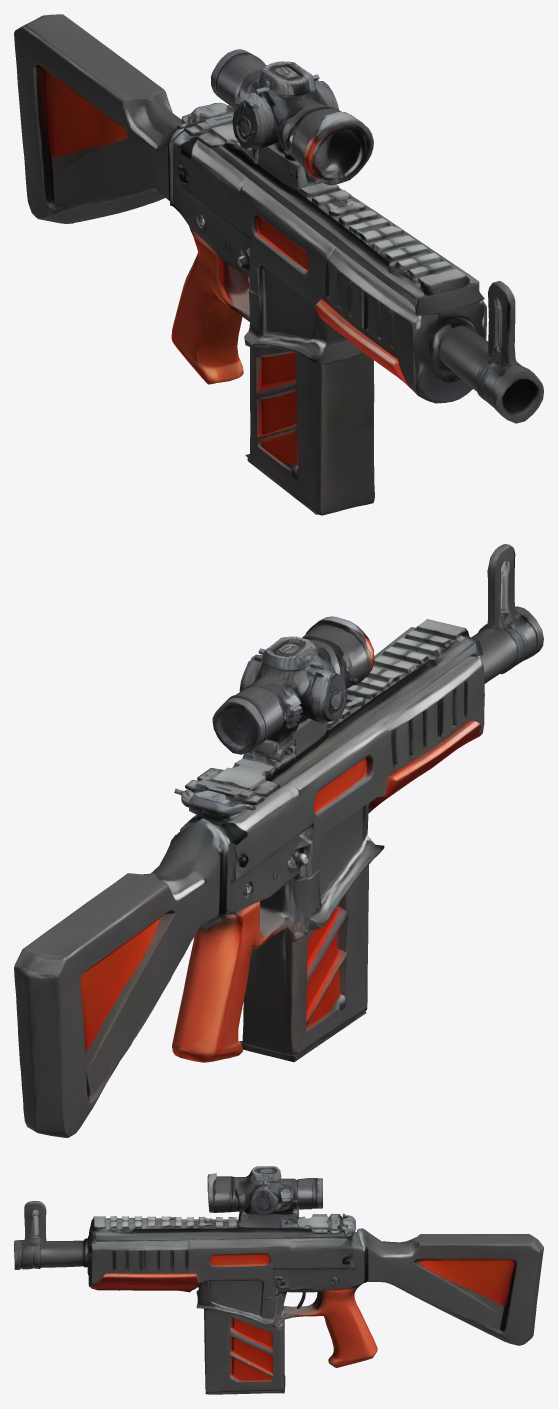
The model's file is rifle.glb.
The picture shows the model from 3 angles, top to bottom: view 1: azimuth 30°, elevation 25°; view 2: azimuth 150°, elevation 25°; view 3: azimuth 270°, elevation 25°; orthographic projection. The views are drawn at different scales.
Visible parts, largest first — view 1: model; view 2: model; view 3: model.
Part boxes in pixels (x1,y1,x2,y2): model: (14,14,543,515); model: (14,544,543,1137); model: (14,1166,543,1394).
Size of the model in its own units: 0.1058 by 0.4263 by 0.95.
1 material, 1 textured.
